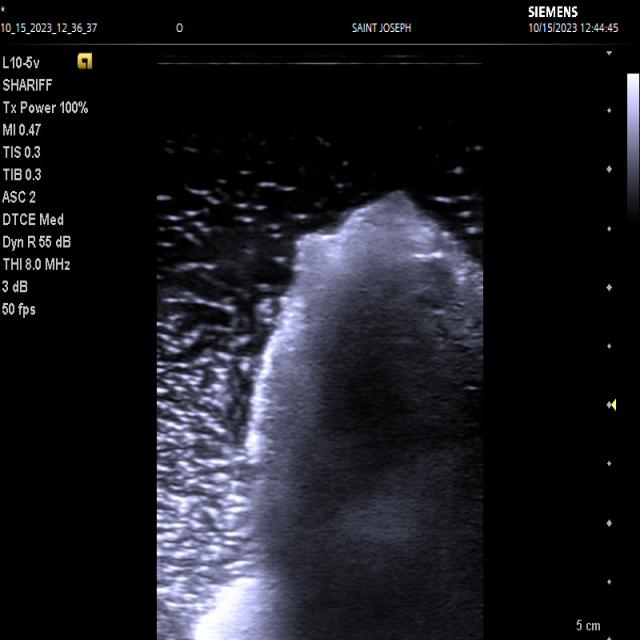tissue: (193, 188, 488, 640)
